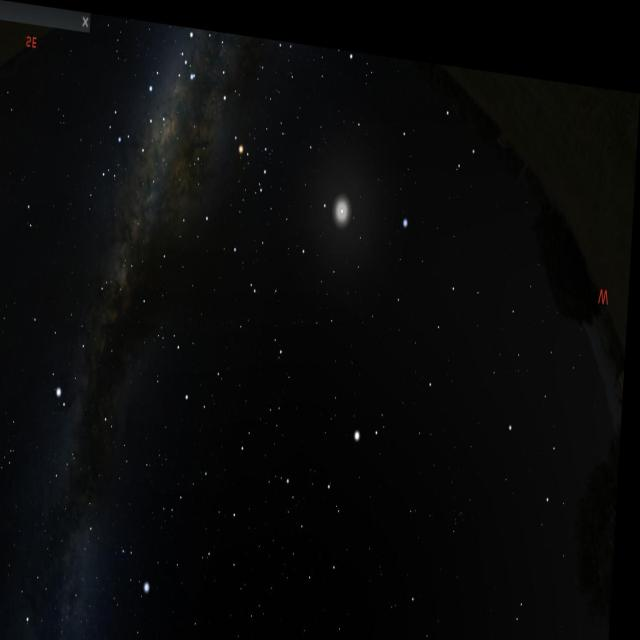aquila: (40, 251, 132, 466)
bootes: (288, 380, 397, 593)
lyra: (118, 523, 167, 599)
moon: (312, 152, 366, 235)
sagittarius: (98, 64, 180, 177)
scorpius: (172, 21, 282, 192)
